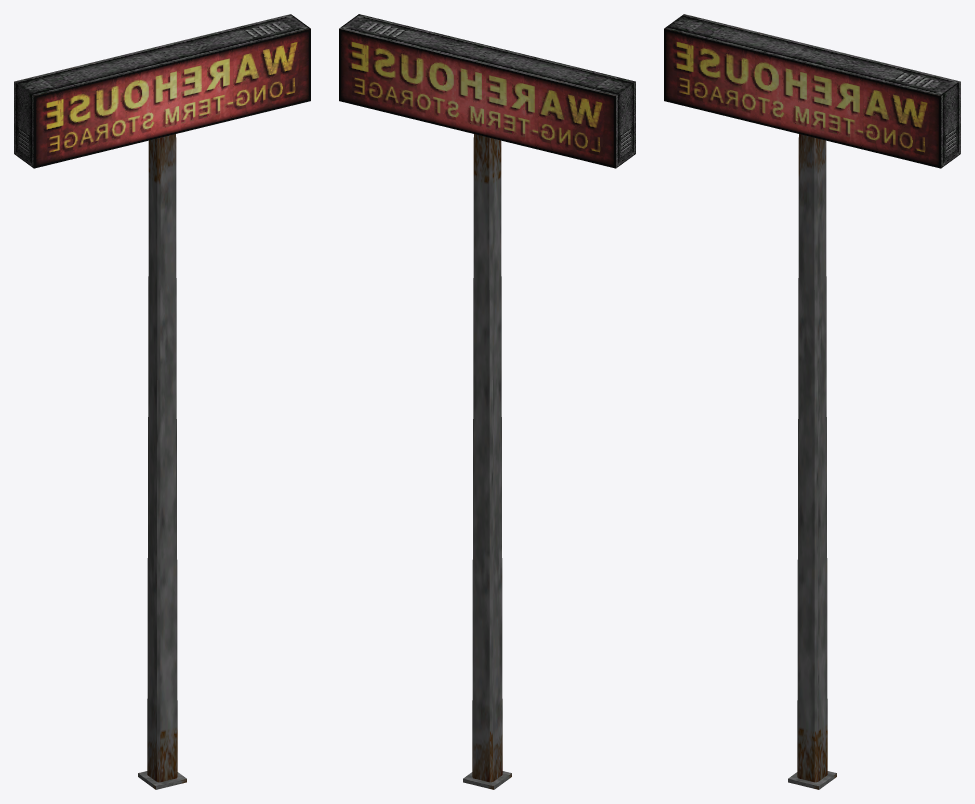
File: wrhs_tallpole.fbx
3 views of the same model, side by side, from view 1: azimuth 30°, elevation 25°; view 2: azimuth 150°, elevation 25°; view 3: azimuth 330°, elevation 25° (orthographic).
Visible parts, largest first — view 1: mesh_0; view 2: mesh_0; view 3: mesh_0.
Part boxes in pixels (x1,y1,x2,y2): mesh_0: [14, 14, 310, 789]; mesh_0: [339, 14, 635, 789]; mesh_0: [664, 14, 960, 789].
Bounding box in the file's own units: 400 × 1000 × 50.
Materials: 1 (1 with a texture image).
